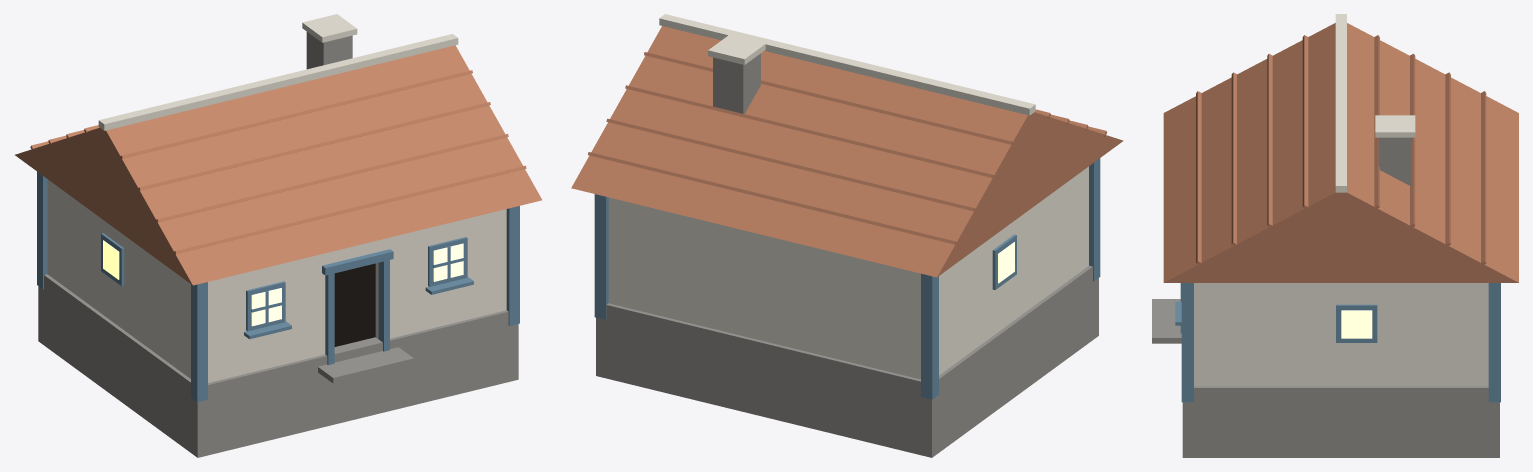
Rendered from casa.glb.
3 views of the same model, side by side, from view 1: azimuth 30°, elevation 25°; view 2: azimuth 150°, elevation 25°; view 3: azimuth 270°, elevation 25° (orthographic). The views are drawn at different scales.
Visible parts, largest first — view 1: FG_Casa; view 2: FG_Casa; view 3: FG_Casa.
Part boxes in pixels (x1,y1,x2,y2): FG_Casa: (15, 14, 541, 457); FG_Casa: (571, 14, 1123, 457); FG_Casa: (1152, 14, 1518, 457).
Bounding box in the file's own units: 7.9 × 6.31 × 7.12.
